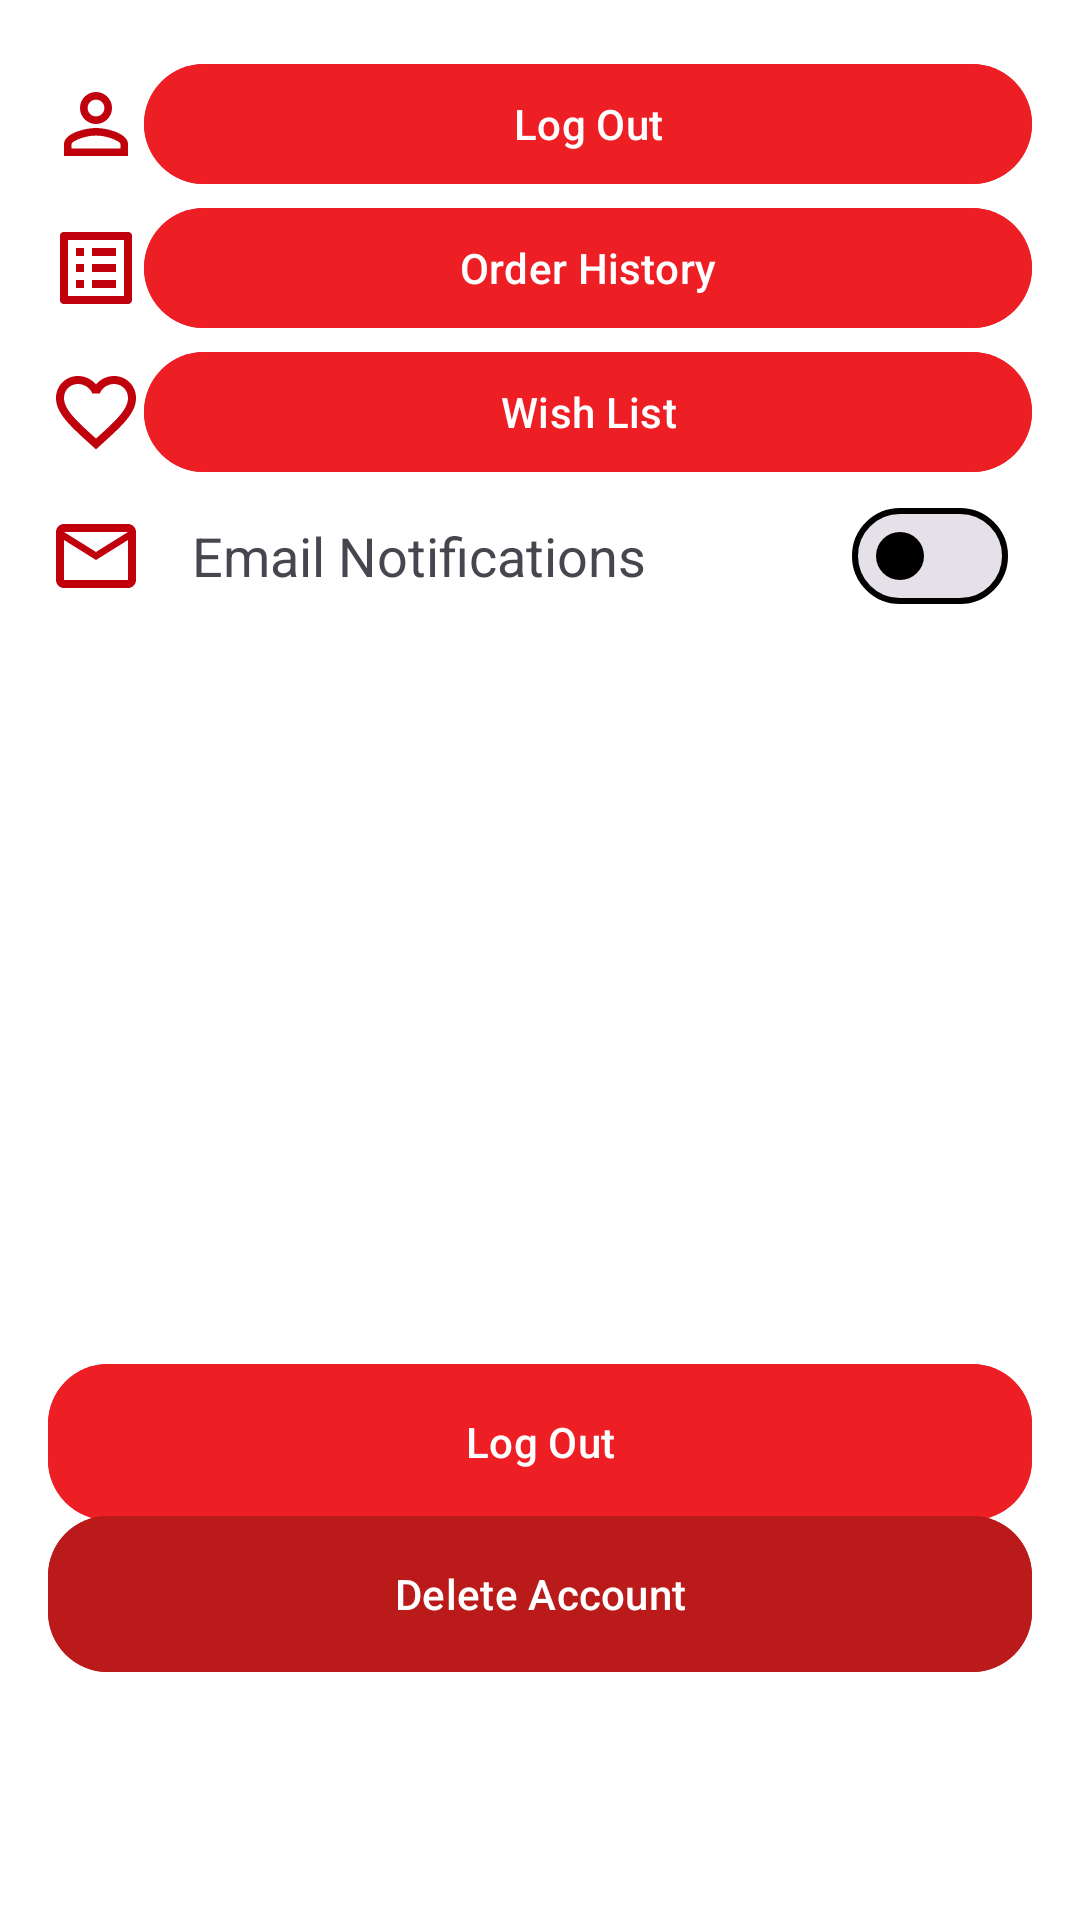

Icon click points for this 1080*1920 phone screenshot, format (x,y):
heart: (96,412)
profile: (96,124)
